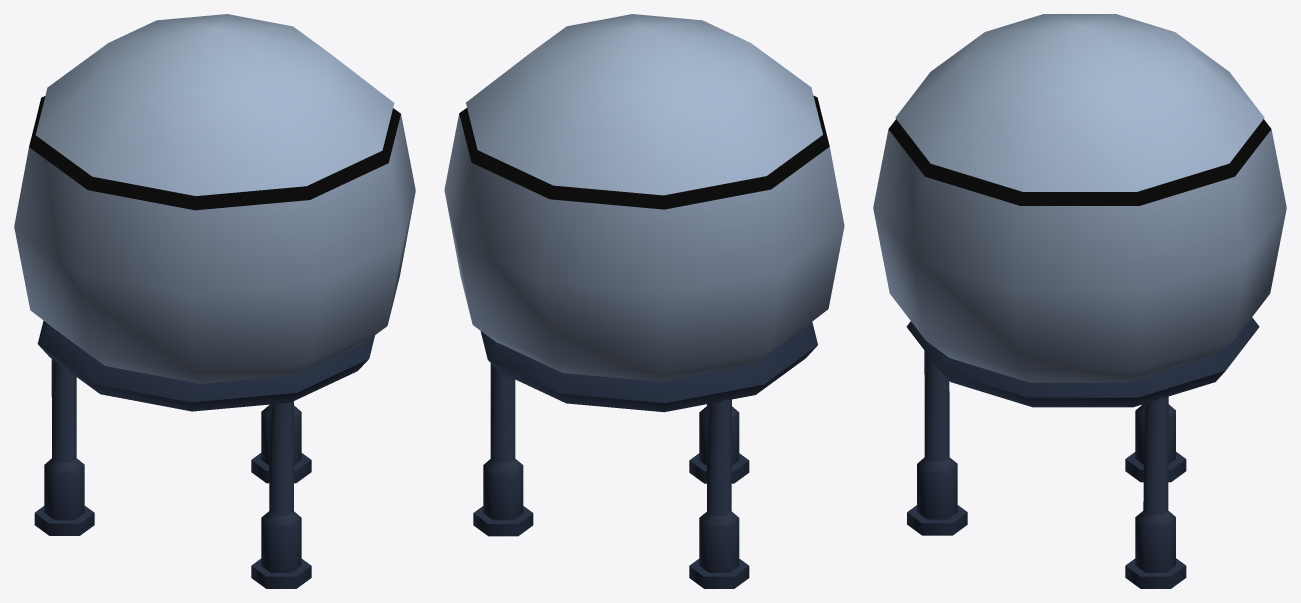
The model's file is Tank 04.FBX.
3 views of the same model, side by side, from view 1: azimuth 30°, elevation 25°; view 2: azimuth 150°, elevation 25°; view 3: azimuth 270°, elevation 25° (orthographic).
Visible parts, largest first — view 1: Tank 04; view 2: Tank 04; view 3: Tank 04.
Boxes of the visible parts, bbox=[...] form: Tank 04: bbox=[14, 14, 415, 588]; Tank 04: bbox=[444, 14, 844, 588]; Tank 04: bbox=[873, 14, 1286, 588].
Bounding box in the file's own units: 282 × 395 × 296.
Materials: 1 (1 with a texture image).
